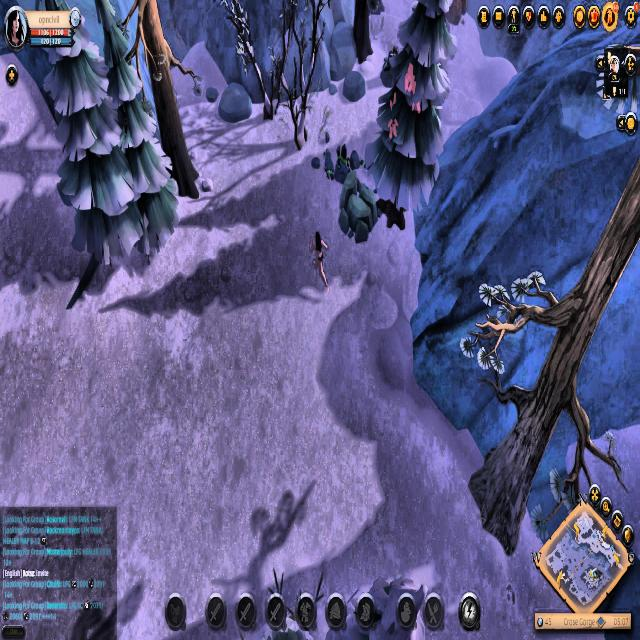sandstone: (336, 168, 385, 246)
